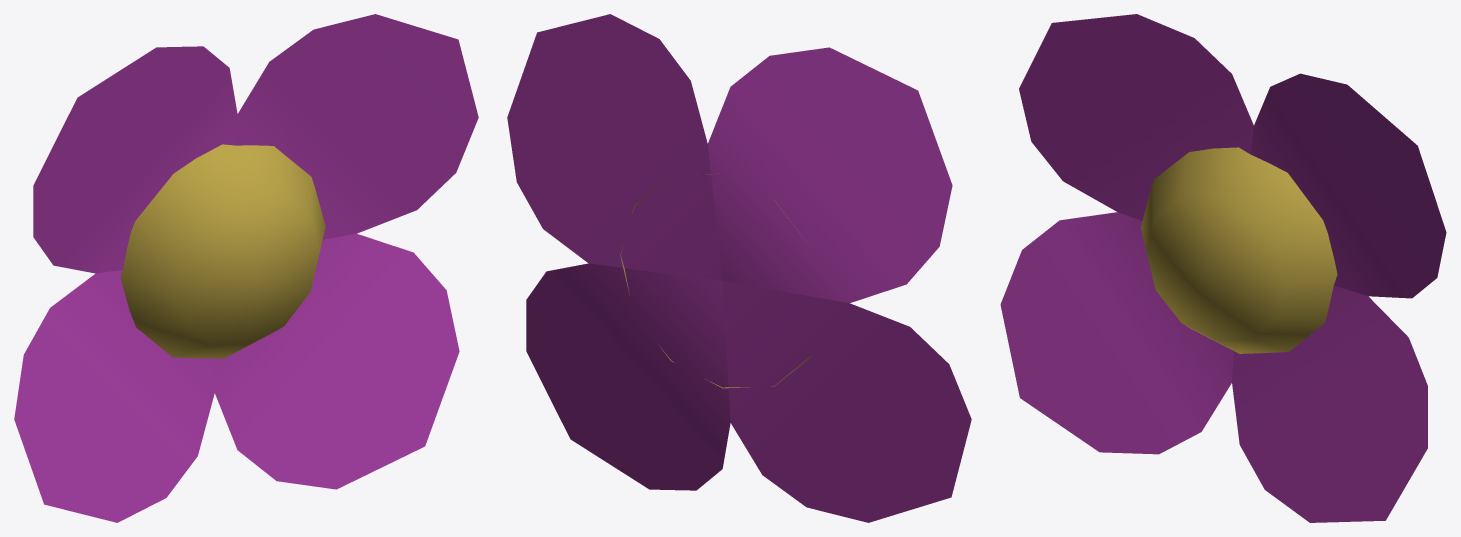
File: flower_bud.fbx
The picture shows the model from 3 angles, left to right: view 1: azimuth 30°, elevation 25°; view 2: azimuth 150°, elevation 25°; view 3: azimuth 330°, elevation 25°; orthographic projection. The views are drawn at different scales.
Parts seen in each view (by area): view 1: flower_bud; view 2: flower_bud; view 3: flower_bud.
Part boxes in pixels (x1,y1,x2,y2): flower_bud: (14,14,478,522); flower_bud: (507,14,971,522); flower_bud: (1000,14,1446,522).
Size of the model in its own units: 38.77 by 38.77 by 4.83.
